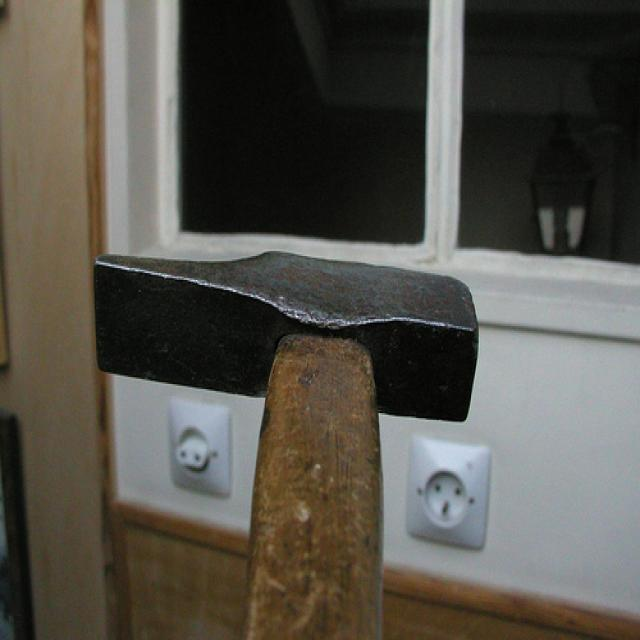hammer: (81, 231, 485, 640)
